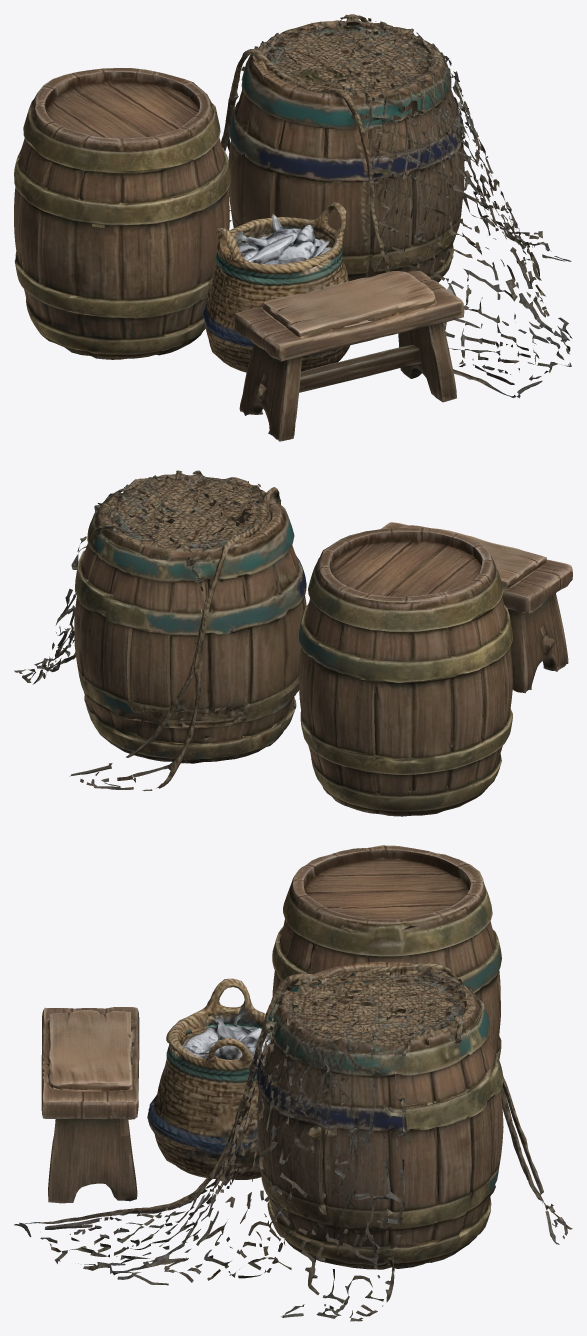
The model's file is tidewake_dock_work_cluster.glb.
The picture shows the model from 3 angles, top to bottom: view 1: azimuth 30°, elevation 25°; view 2: azimuth 150°, elevation 25°; view 3: azimuth 270°, elevation 25°; orthographic projection. The views are drawn at different scales.
Parts seen in each view (by area): view 1: Mesh_0; view 2: Mesh_0; view 3: Mesh_0.
Part boxes in pixels (<box>): Mesh_0: <box>14,14,572,441</box>; Mesh_0: <box>14,470,572,816</box>; Mesh_0: <box>14,845,572,1321</box>.
Size of the model in its own units: 1.89 by 0.7946 by 1.73.
Materials: 1 (1 with a texture image).
